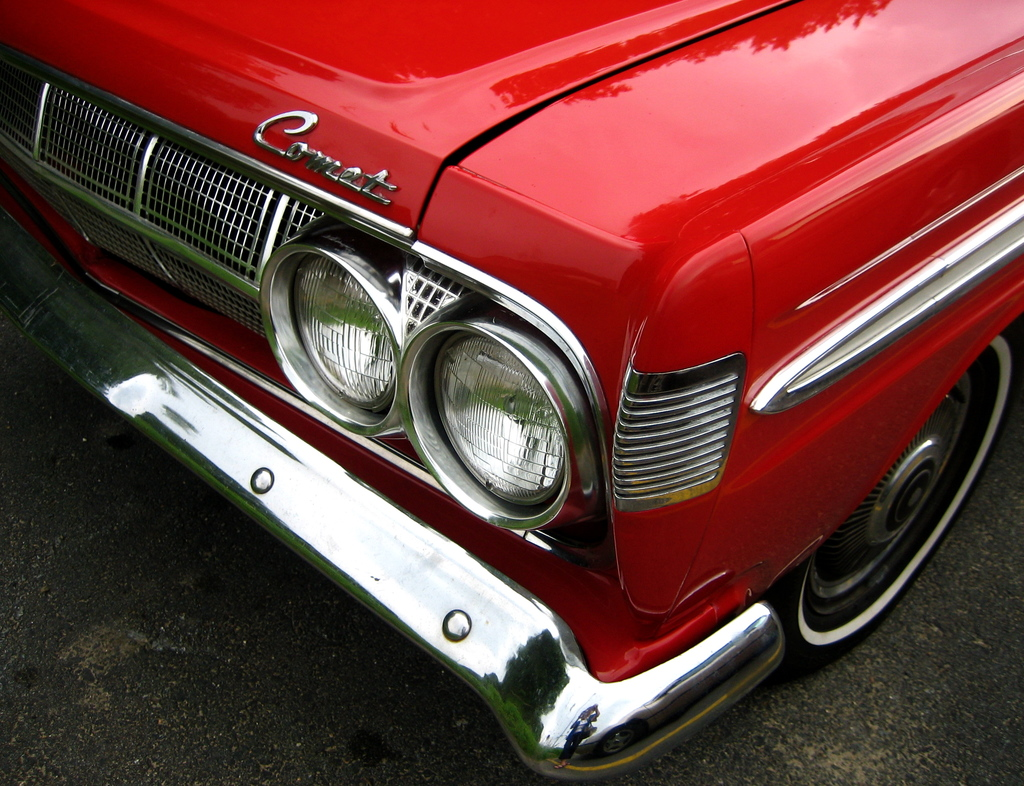Car: (0, 0, 1023, 779)
